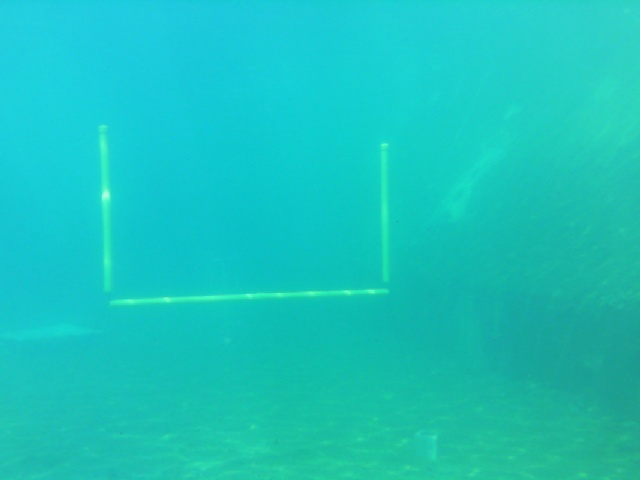channel: (96, 122, 398, 304)
